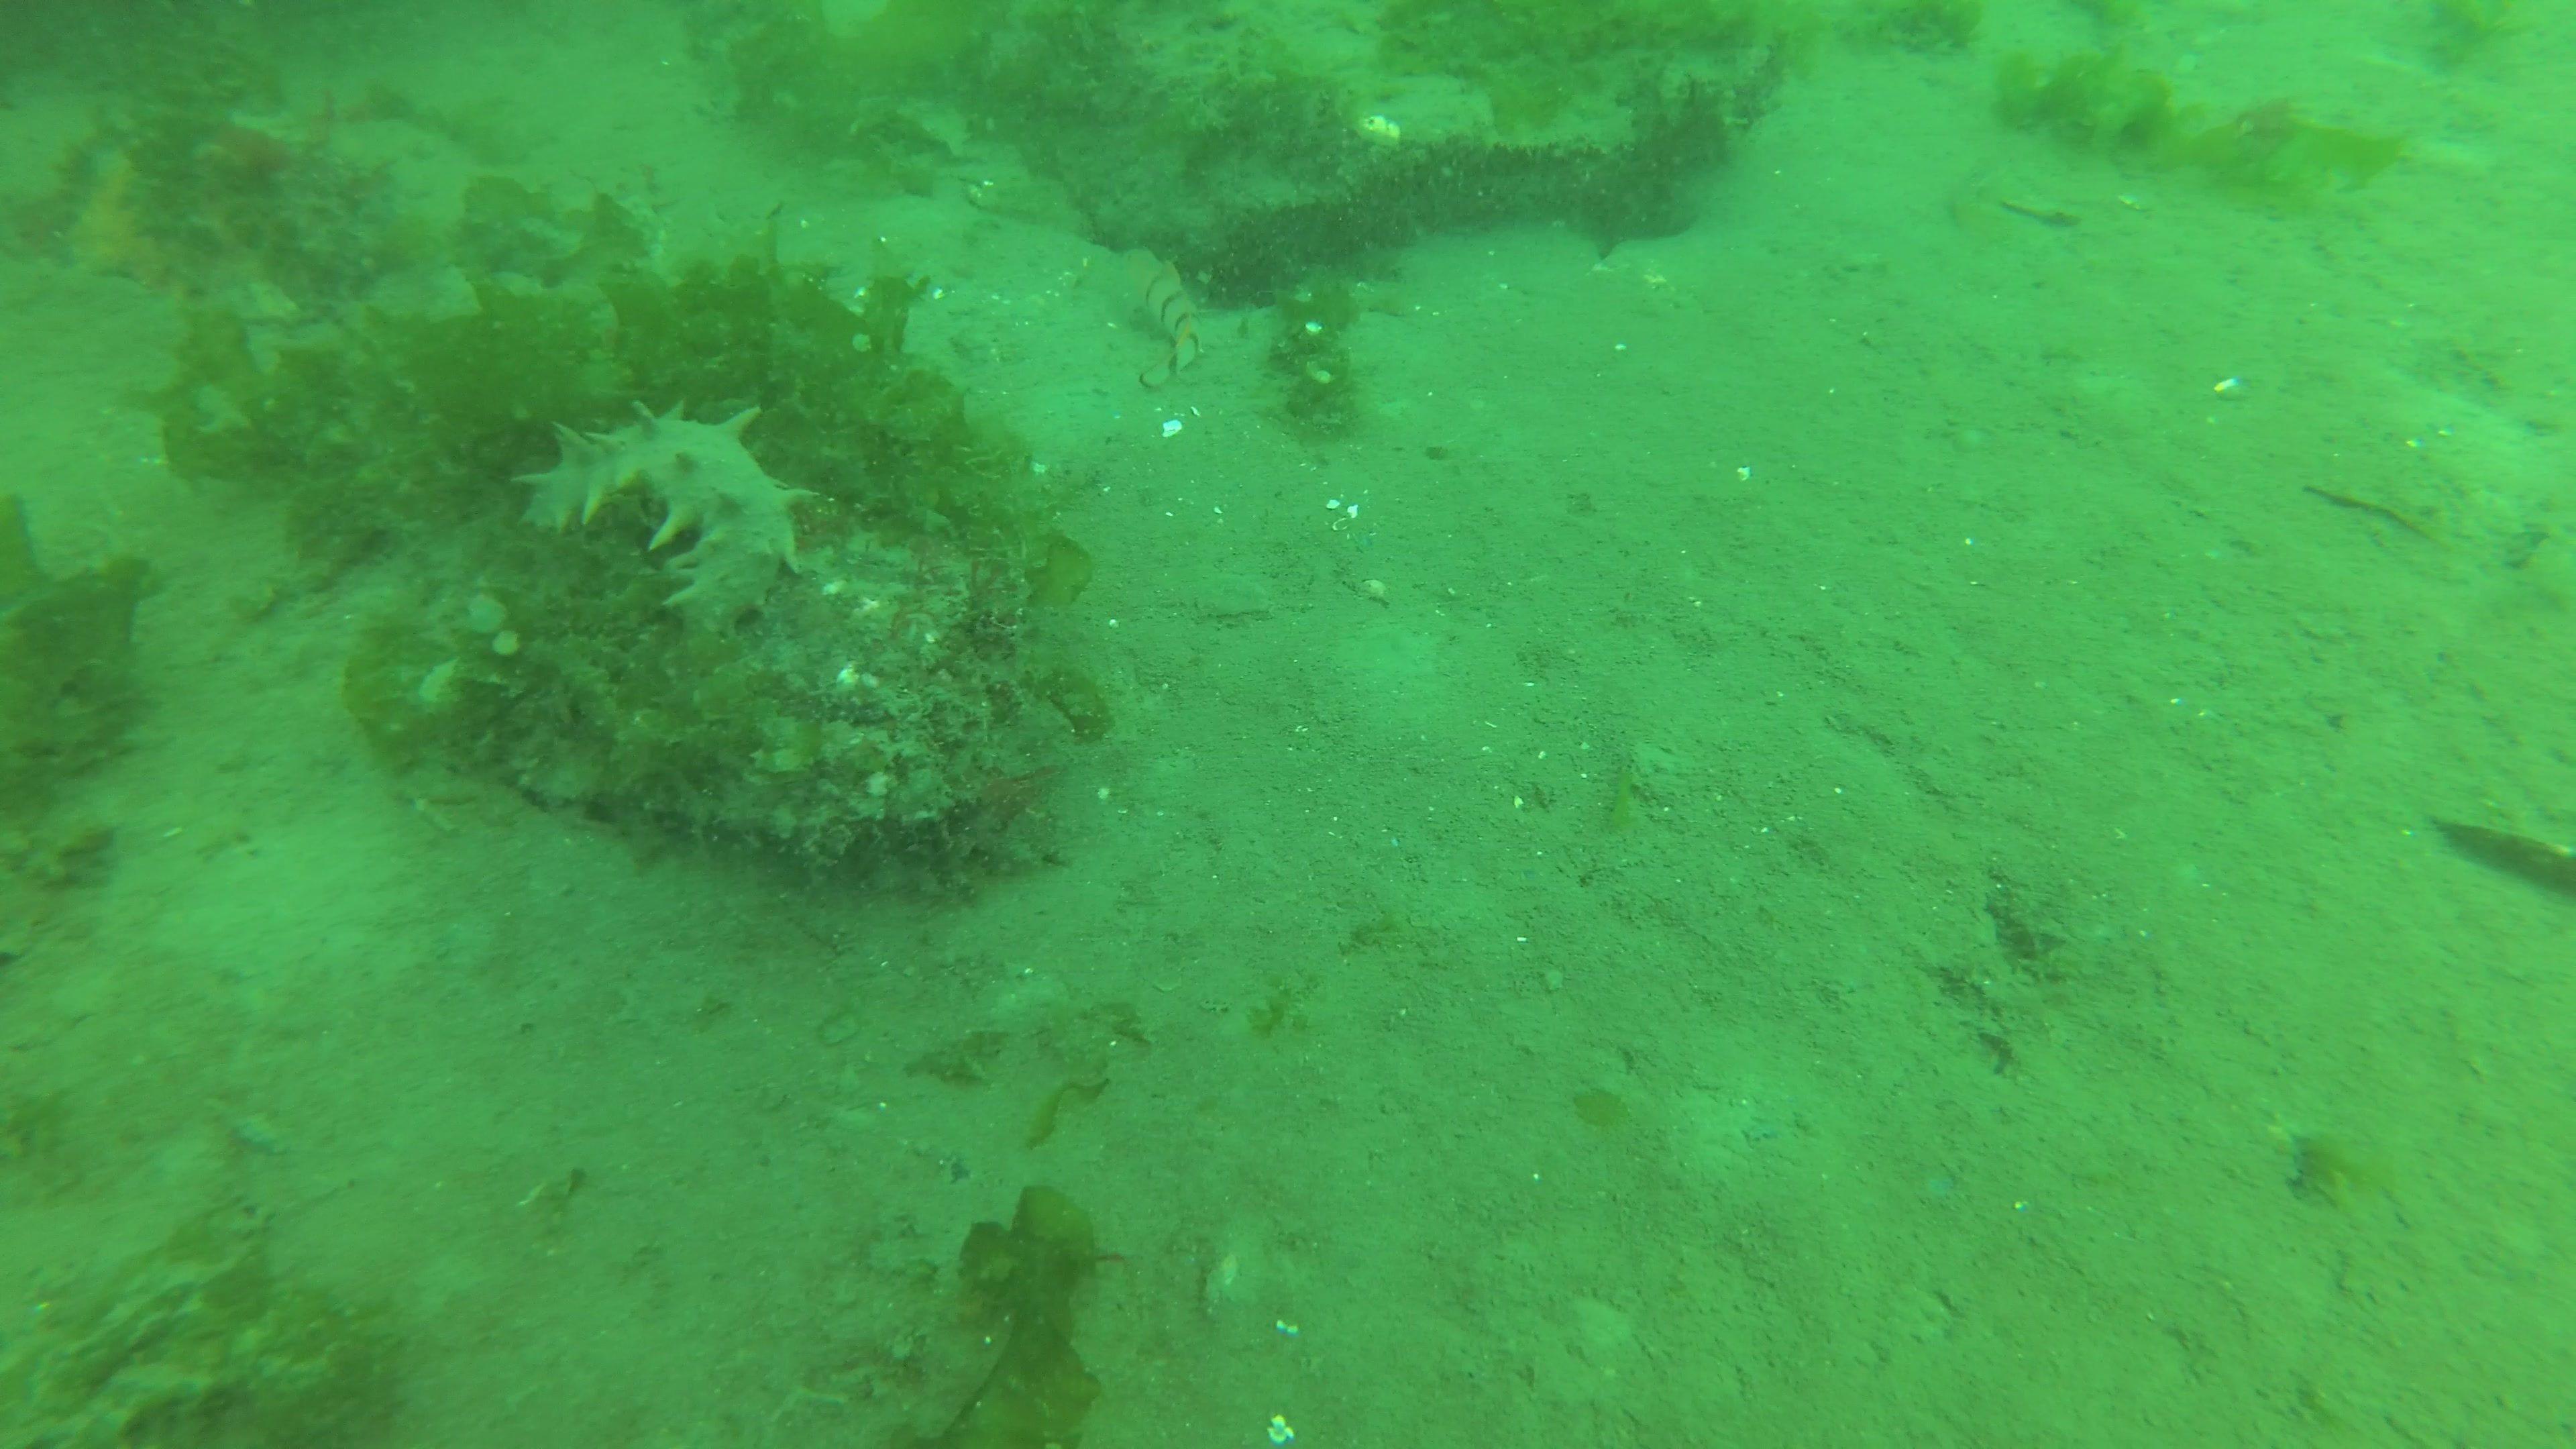holothurian: (508, 396, 817, 633)
scallop: (2436, 812, 2576, 874), (1997, 196, 2082, 225)
